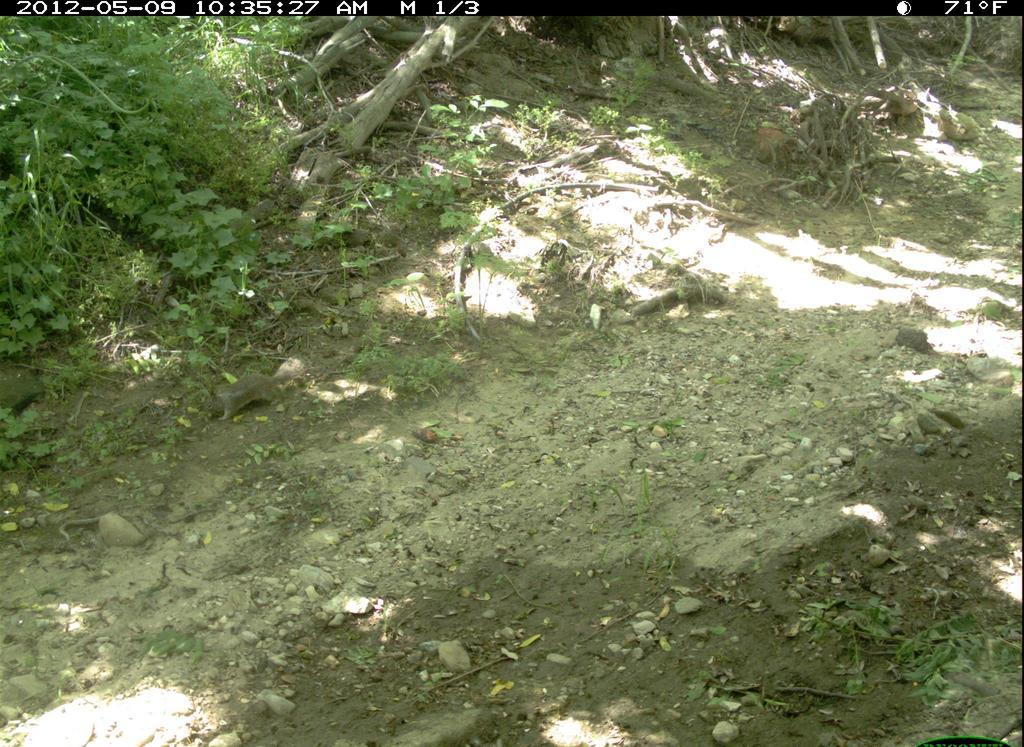squirrel: (189, 346, 313, 437)
